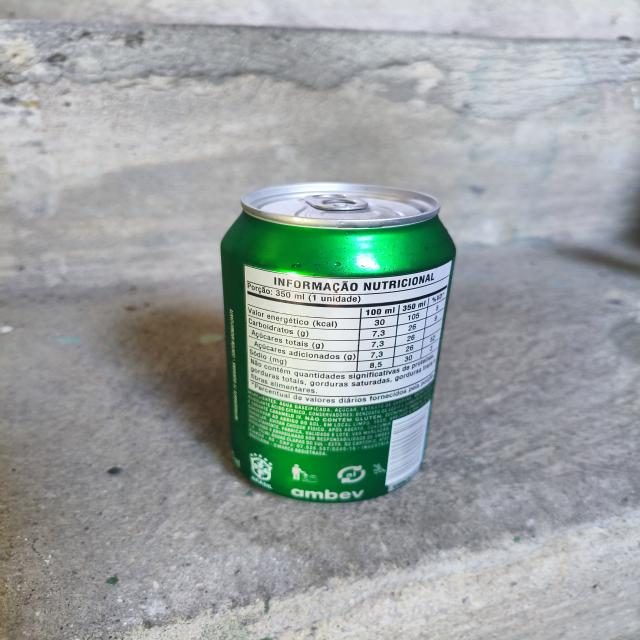Guarana: (204, 168, 478, 518)
